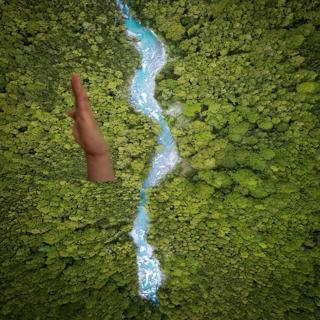RIGHT: (62, 71, 112, 156)
